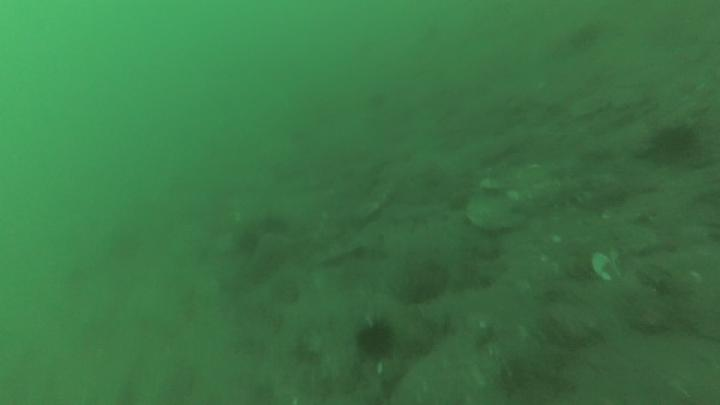echinus: (357, 325, 395, 360)
scallop: (531, 300, 605, 352), (387, 254, 450, 304), (638, 259, 698, 303), (677, 286, 720, 341), (626, 292, 677, 336), (311, 242, 371, 267), (536, 278, 582, 306), (592, 254, 615, 282)
starfish: (654, 130, 694, 157)
